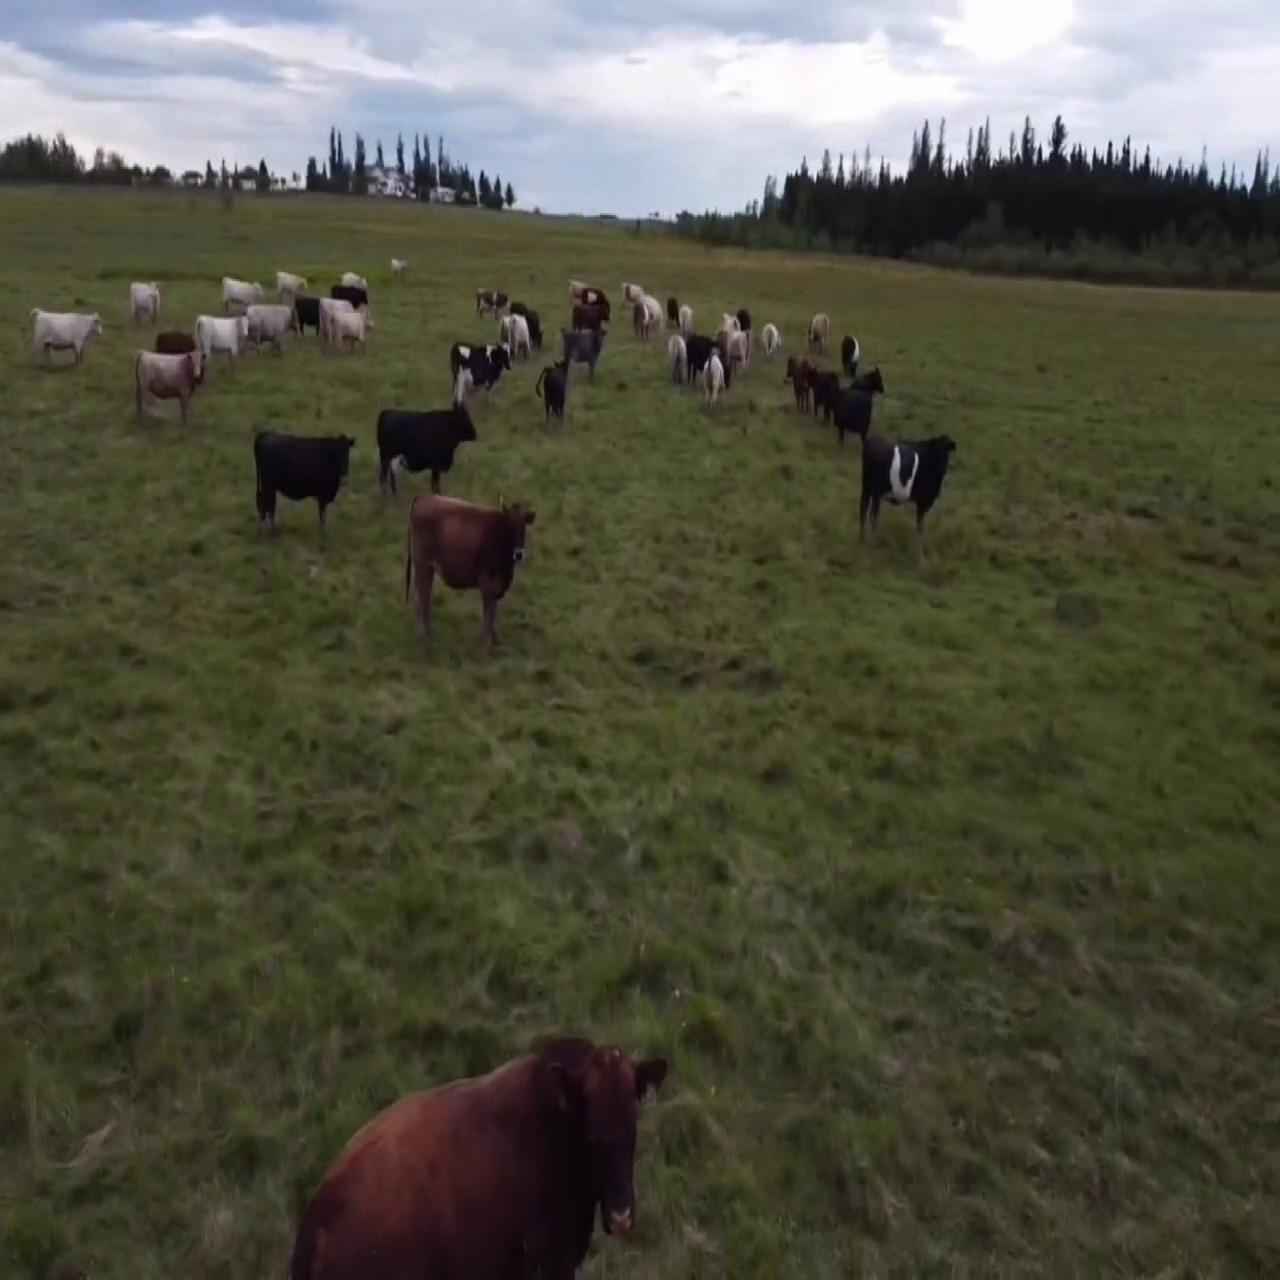cow: (225, 995, 688, 1273), (400, 488, 535, 642), (850, 417, 954, 558), (248, 421, 354, 533), (373, 401, 481, 496), (135, 342, 206, 425), (560, 279, 614, 388), (29, 306, 110, 372), (451, 336, 516, 407), (835, 362, 887, 437), (248, 292, 302, 359), (497, 301, 549, 366), (195, 315, 247, 376), (326, 305, 376, 354), (625, 280, 662, 345), (757, 314, 791, 379), (803, 366, 842, 420), (538, 358, 568, 425), (125, 278, 166, 325), (223, 274, 263, 313), (704, 350, 726, 413), (787, 350, 809, 409), (667, 336, 688, 386)
